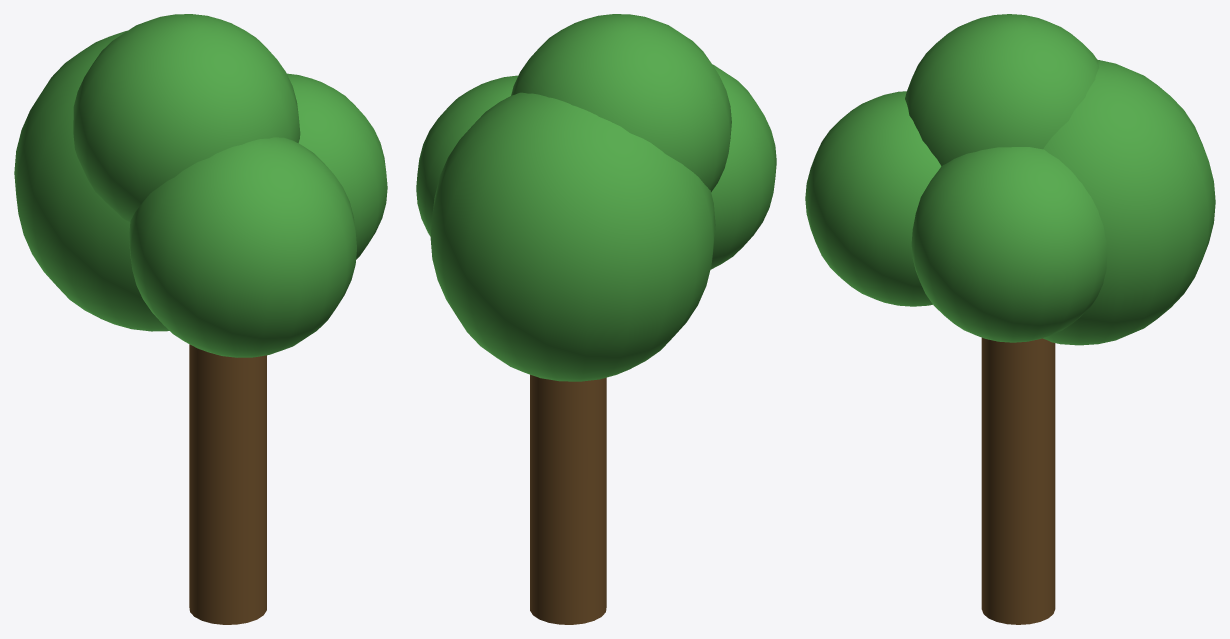
File: vrij2_introlvl_tree.fbx
The picture shows the model from 3 angles, left to right: view 1: azimuth 30°, elevation 25°; view 2: azimuth 150°, elevation 25°; view 3: azimuth 270°, elevation 25°; orthographic projection. The views are drawn at different scales.
Parts seen in each view (by area): view 1: boompie; view 2: boompie; view 3: boompie.
Part boxes in pixels (left/top/right/bottom): boompie: left=14, top=14, right=387, bottom=624; boompie: left=416, top=14, right=776, bottom=624; boompie: left=805, top=14, right=1215, bottom=624.
Bounding box in the file's own units: 0.0138 × 0.0258 × 0.017.
